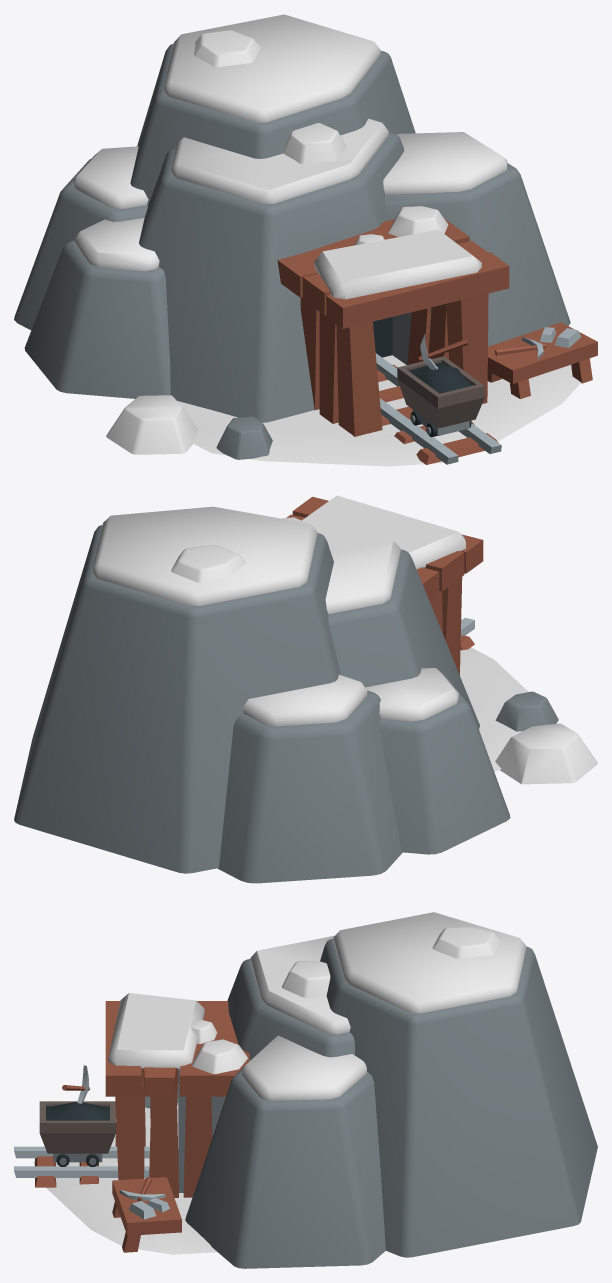
The model's file is mine_snow.gltf.glb.
3 renders of one model, top to bottom at view 1: azimuth 30°, elevation 25°; view 2: azimuth 150°, elevation 25°; view 3: azimuth 270°, elevation 25°, orthographic. The views are drawn at different scales.
Visible parts, largest first — view 1: mine_snow; view 2: mine_snow; view 3: mine_snow.
Part boxes in pixels (left/top/right/bottom): mine_snow: left=14, top=14, right=597, bottom=466; mine_snow: left=14, top=495, right=597, bottom=883; mine_snow: left=14, top=912, right=597, bottom=1268.
Bounding box in the file's own units: 1.61 × 0.8294 × 1.88.
